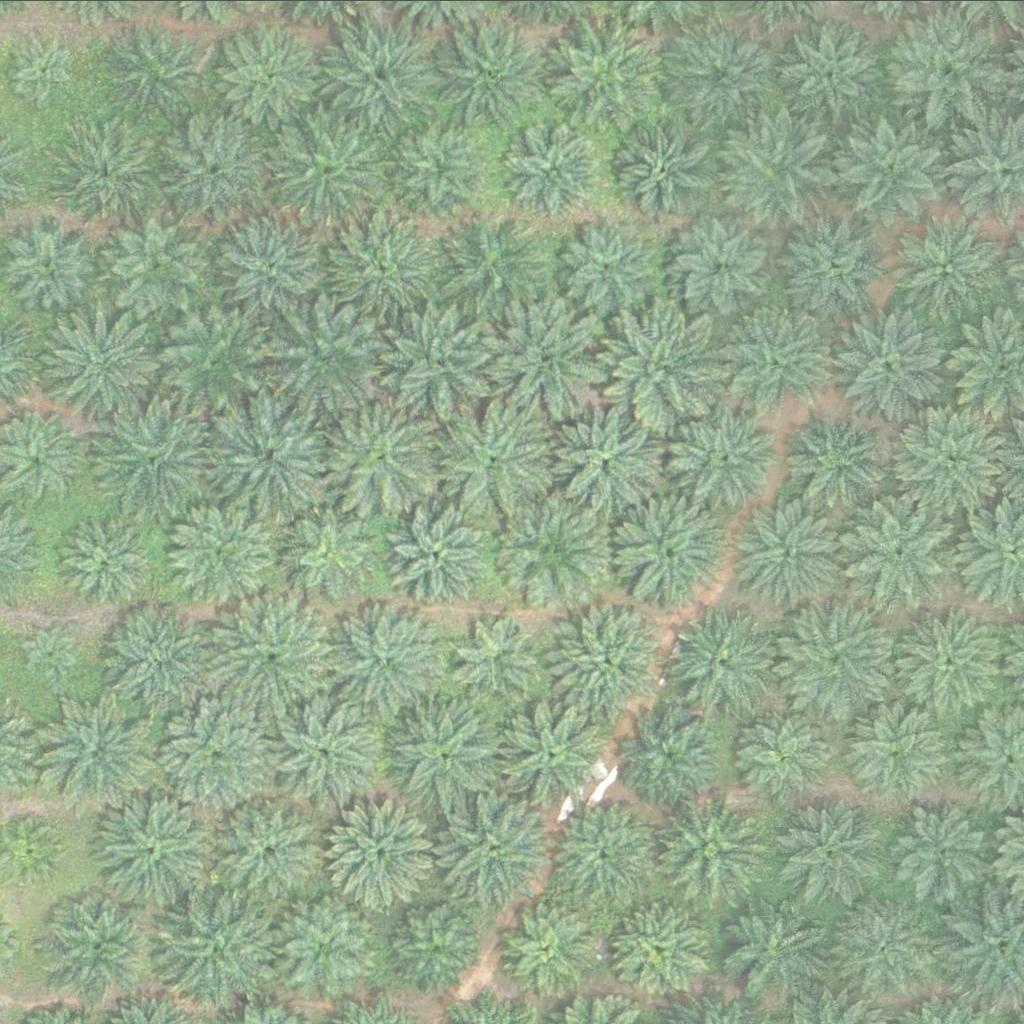Kelapa_Sawit: (155, 307, 269, 420), (91, 401, 205, 514), (265, 300, 379, 413), (431, 15, 545, 128), (717, 888, 831, 1001), (213, 401, 326, 514), (37, 698, 150, 811), (160, 694, 273, 807), (97, 792, 210, 905), (327, 792, 440, 905), (272, 699, 385, 812), (386, 696, 499, 809), (491, 695, 604, 808), (551, 601, 664, 714), (610, 491, 723, 604), (326, 400, 439, 513), (385, 305, 498, 418), (491, 303, 604, 416), (606, 309, 719, 422), (264, 111, 377, 224), (324, 14, 437, 127), (837, 110, 950, 223), (886, 212, 999, 325), (897, 396, 1010, 509), (732, 495, 845, 608), (848, 491, 961, 604), (667, 604, 780, 717), (781, 599, 894, 712), (830, 891, 943, 1004), (216, 213, 330, 325), (652, 795, 766, 907), (324, 205, 438, 317), (556, 15, 670, 127), (895, 599, 1009, 711), (776, 796, 890, 908), (161, 114, 274, 226), (41, 306, 154, 418), (168, 495, 281, 607), (102, 601, 215, 713), (215, 599, 328, 711), (216, 793, 329, 905), (43, 889, 156, 1001), (165, 890, 278, 1002), (440, 795, 553, 907), (550, 797, 663, 909), (333, 605, 446, 717), (496, 493, 609, 605), (438, 399, 551, 511), (544, 401, 657, 513), (439, 208, 552, 320), (665, 19, 778, 131), (890, 19, 1003, 131), (719, 116, 832, 228), (723, 304, 836, 416), (834, 307, 947, 419), (668, 397, 781, 509), (103, 21, 204, 121), (219, 23, 320, 123), (59, 126, 160, 226), (3, 213, 104, 313), (106, 213, 207, 313), (273, 891, 374, 991), (383, 890, 484, 990), (618, 706, 719, 806), (451, 606, 552, 706), (273, 502, 374, 602), (384, 506, 485, 606), (556, 216, 657, 316), (675, 214, 776, 314), (617, 114, 718, 214), (782, 20, 883, 120), (779, 214, 880, 314), (785, 404, 886, 504), (54, 511, 154, 611), (498, 892, 598, 992), (610, 896, 710, 996), (504, 119, 604, 219), (737, 705, 837, 805), (851, 700, 951, 800), (895, 797, 995, 897), (401, 125, 489, 213), (9, 35, 84, 110), (18, 622, 81, 684)
